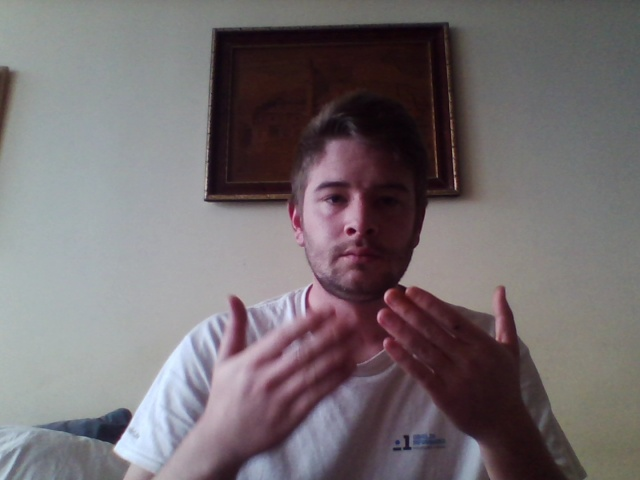hvala: (210, 284, 526, 455)
